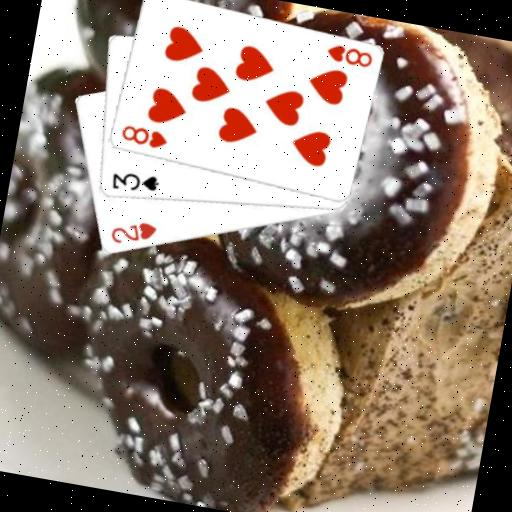2H: (106, 213, 159, 251)
3S: (107, 166, 161, 198)
8H: (116, 120, 170, 152), (322, 40, 376, 71)
